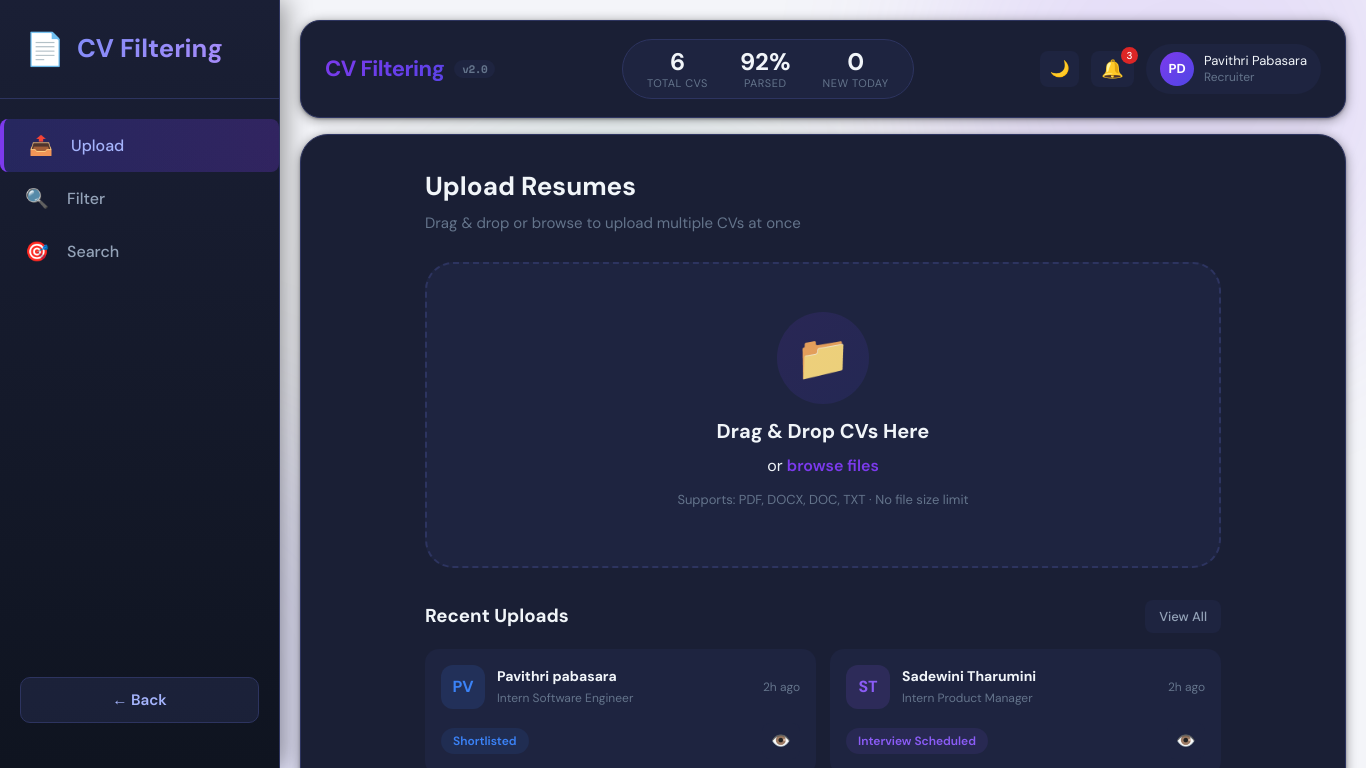
Test: CVFiltering › opens the candidate modal from the filter results
Click the button "🔍 Filter": coordinates (86, 198) x1=0 y1=172 x2=279 y2=225
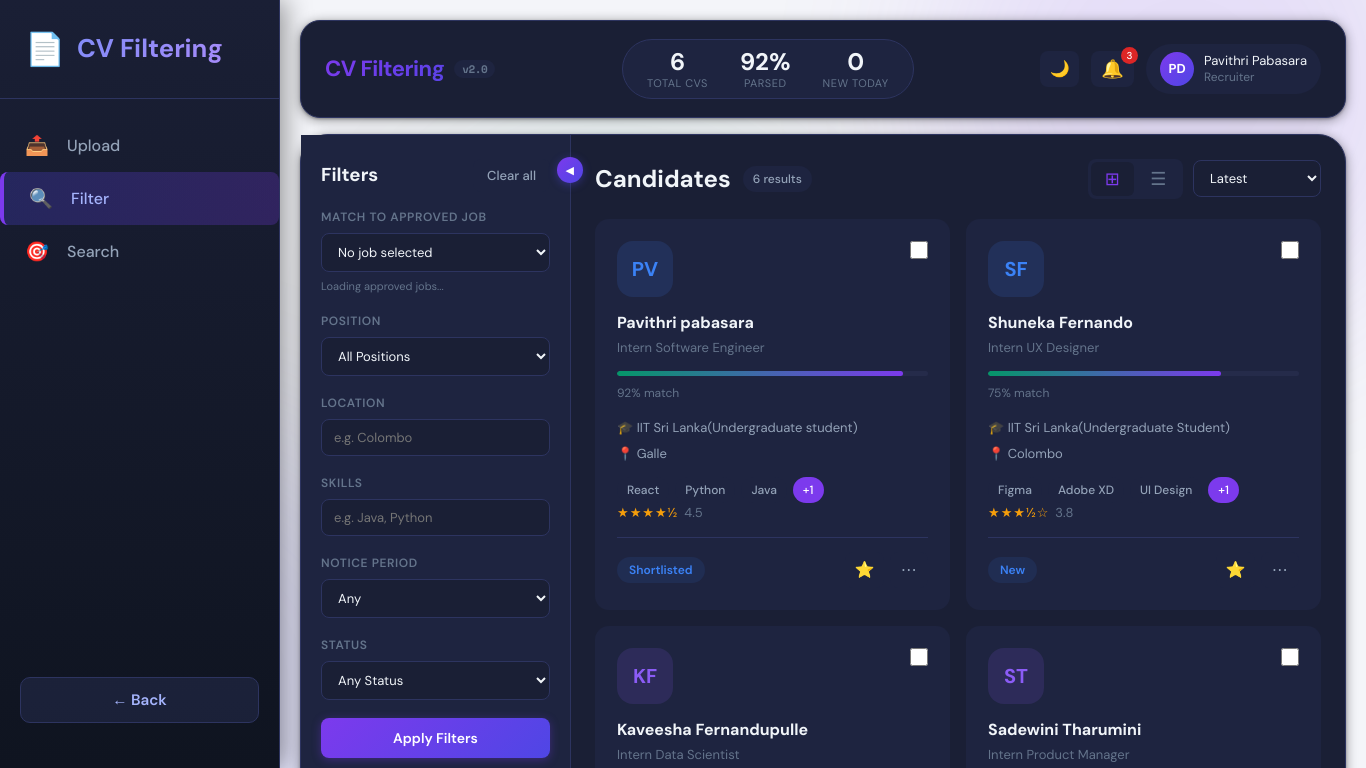
Click the heading "Pavithri pabasara": coordinates (685, 322) x1=617 y1=312 x2=754 y2=333
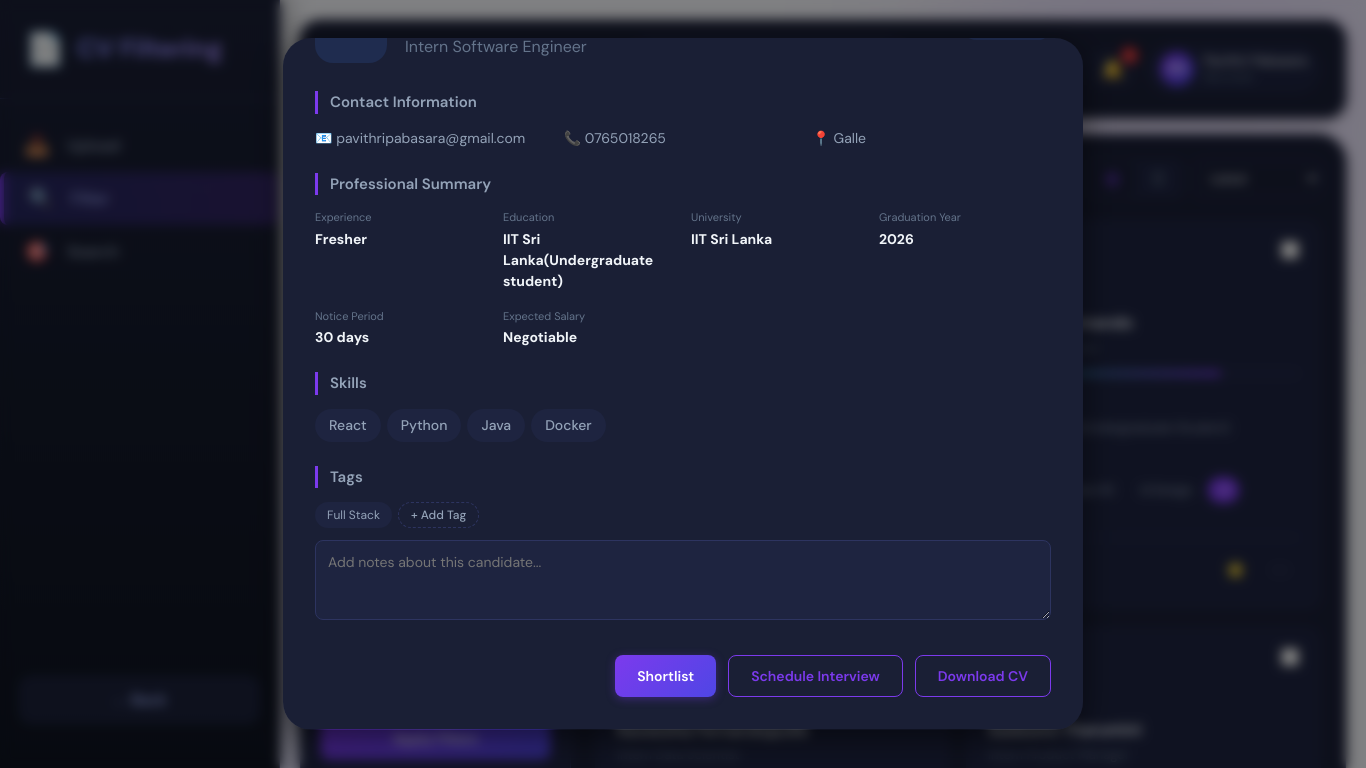
Expected: the heading "Contact Information" is shown, x1=315 y1=91 x2=1051 y2=114
Expected: the heading "Professional Summary" is shown, x1=315 y1=173 x2=1051 y2=195
Expected: the button "Schedule Interview" is shown, x1=728 y1=655 x2=903 y2=697
